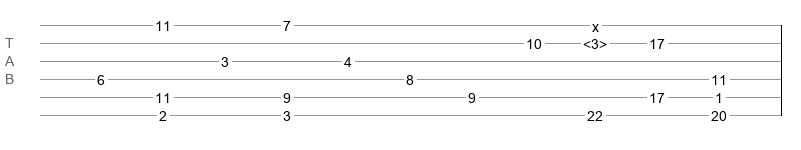1: (715, 90, 723, 100)
10: (526, 36, 542, 46)
11: (155, 18, 171, 28), (155, 90, 171, 100), (711, 72, 727, 82)
17: (649, 36, 665, 46), (649, 90, 665, 100)
2: (159, 108, 167, 118)
20: (711, 108, 727, 118)
22: (587, 108, 603, 118)
3: (221, 54, 229, 64), (283, 108, 291, 118)
4: (344, 54, 352, 64)
6: (97, 72, 105, 82)
7: (283, 18, 291, 28)
8: (406, 72, 414, 82)
9: (283, 90, 291, 100), (468, 90, 476, 100)
harmonic: (583, 36, 607, 46)
x: (592, 19, 599, 27)
